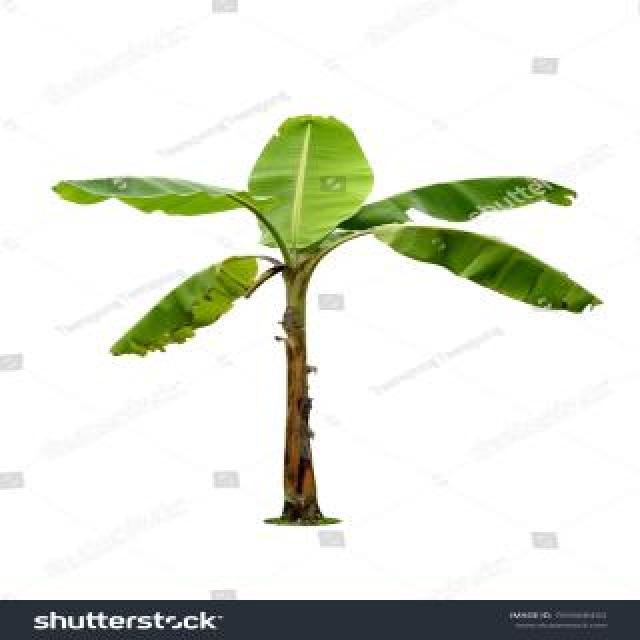Pisang: (46, 116, 601, 526)
